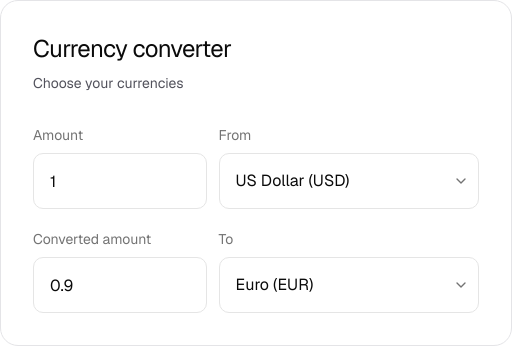
currency converter › converts in reverse when the user edits the converted amount
The image size is (529, 363).
Replace the text in the number field labelled "Converted amount" with "90" at [120, 285], box [33,257,207,313]
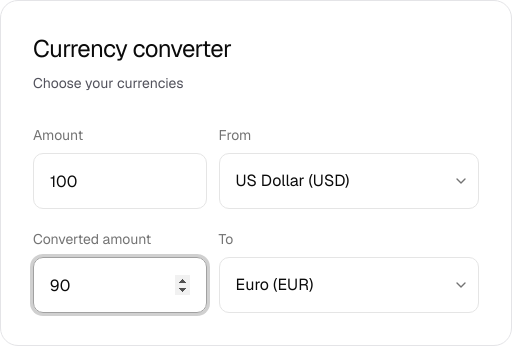
Result: the number field labelled "Amount" holds "100" at [33,153,207,209]
